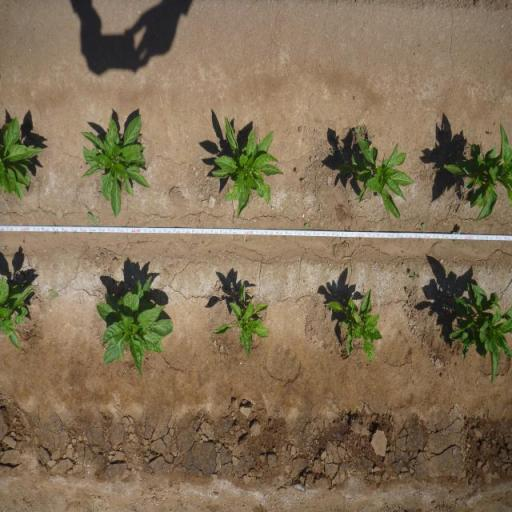plant: (208, 110, 290, 223), (89, 273, 176, 378), (78, 106, 153, 214), (441, 116, 512, 224), (445, 280, 512, 389), (343, 139, 413, 219), (323, 285, 384, 365), (211, 278, 269, 356), (0, 112, 48, 204), (0, 270, 38, 353)
weed: (86, 210, 104, 236), (328, 144, 344, 159), (452, 225, 462, 244), (408, 268, 420, 282), (352, 122, 362, 136), (49, 288, 60, 300), (419, 221, 427, 232), (300, 178, 306, 184), (304, 222, 310, 228), (294, 166, 298, 174), (368, 133, 372, 141)
